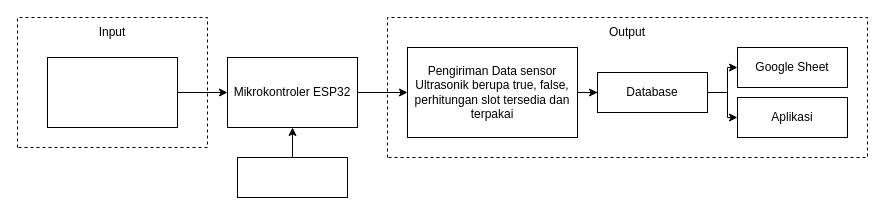
This 886x215 diagram has some shape labels left out. The centre of each missing label's shape, as x and y in pixels:
Adaptor: the point at 292,177
Sensor Ultrasonik: the point at 112,92
